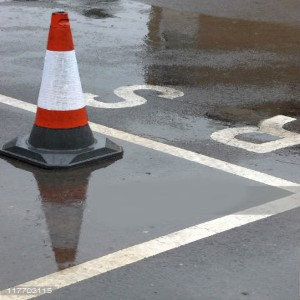traffic cone: (1, 11, 124, 170)
